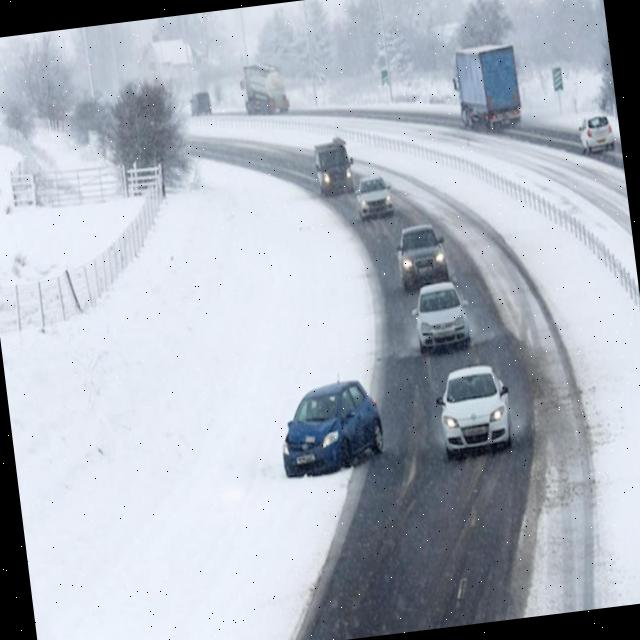bus: (449, 40, 523, 134), (237, 57, 291, 115)
car: (274, 374, 388, 479), (432, 362, 516, 459), (408, 280, 470, 355), (394, 220, 451, 293), (311, 136, 356, 197), (353, 172, 394, 220), (578, 113, 615, 155), (188, 90, 212, 116)
